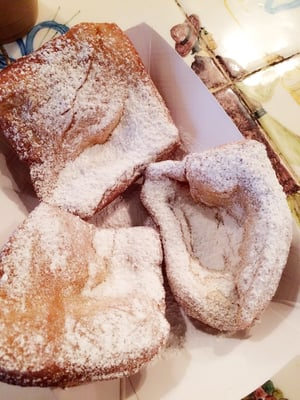salad: (0, 21, 183, 221), (0, 204, 170, 389), (139, 139, 294, 339)
